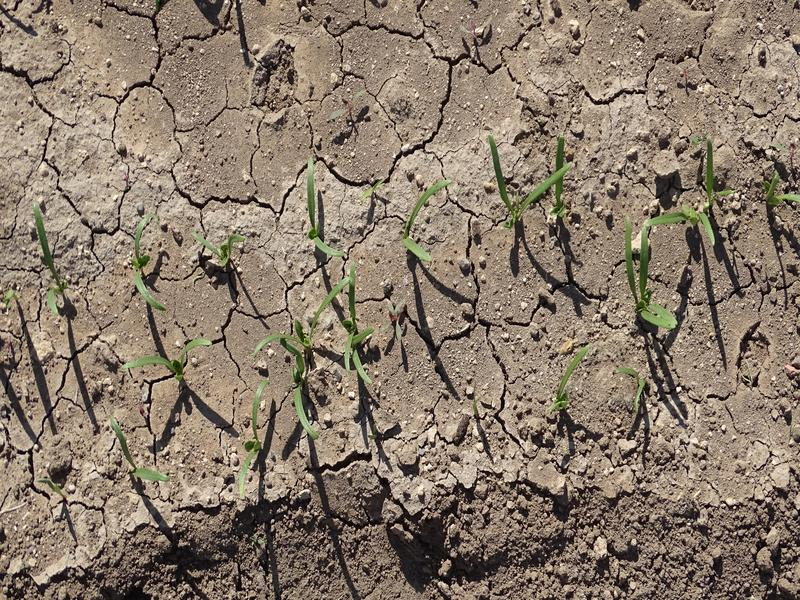Espinaca: (488, 134, 577, 225), (259, 276, 348, 353), (645, 139, 724, 223), (619, 225, 680, 329), (231, 376, 272, 504), (32, 203, 73, 319), (112, 411, 169, 485), (402, 179, 448, 263), (123, 332, 215, 373), (305, 160, 342, 258), (342, 271, 374, 382), (131, 218, 166, 314), (552, 343, 595, 411), (290, 358, 320, 439), (200, 232, 246, 270), (761, 175, 800, 204)
